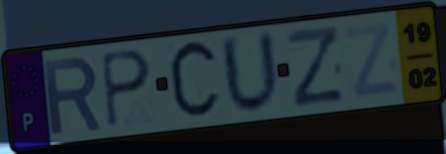C: (165, 36, 223, 127)
P: (98, 47, 154, 131)
R: (41, 54, 105, 138)
U: (217, 28, 284, 118)
Z: (284, 23, 347, 111), (341, 19, 403, 102)
